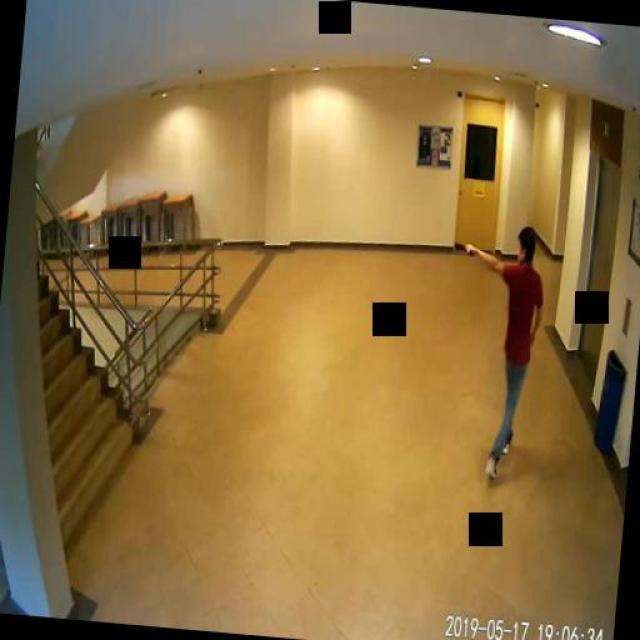gun: (452, 239, 473, 256)
